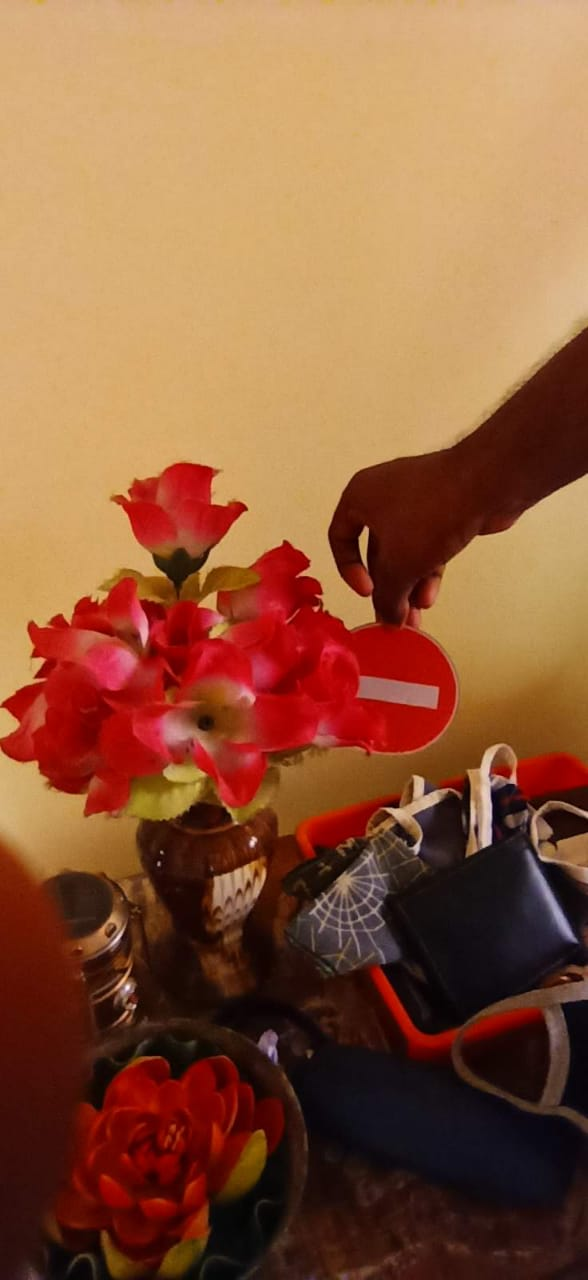NO ENTRY: (301, 594, 474, 776)
